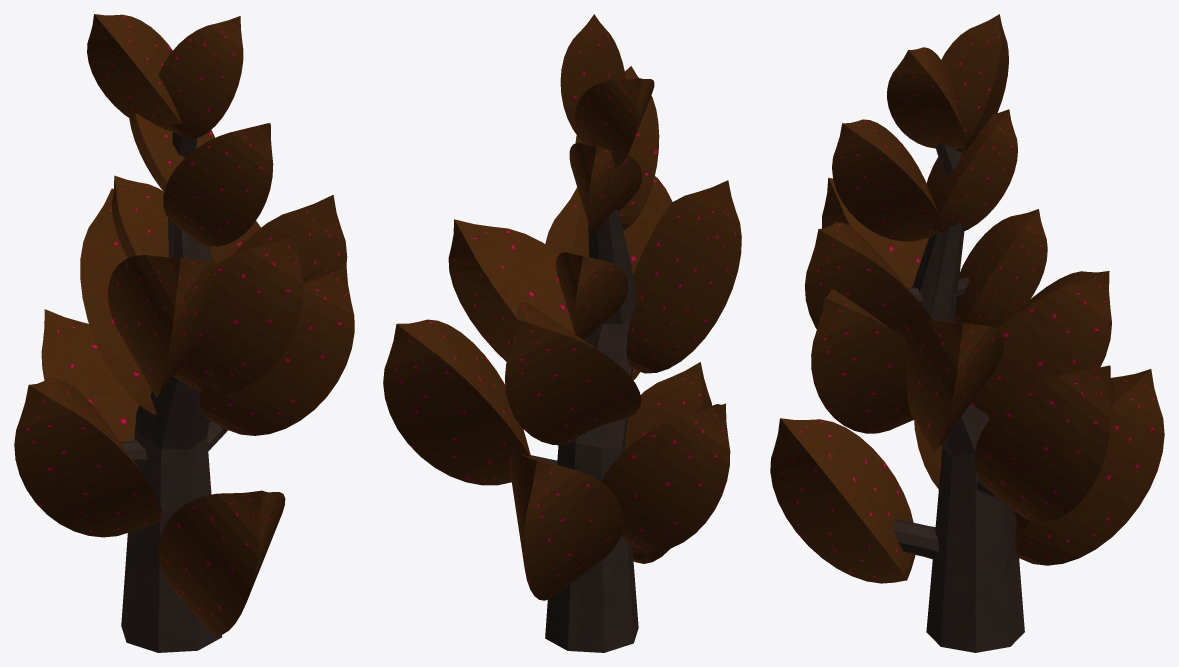
Rendered from tree-brown-red-flowers_5.fbx.
The picture shows the model from 3 angles, left to right: view 1: azimuth 30°, elevation 25°; view 2: azimuth 150°, elevation 25°; view 3: azimuth 270°, elevation 25°; orthographic projection. The views are drawn at different scales.
Parts seen in each view (by area): view 1: Icosphere.103; view 2: Icosphere.103; view 3: Icosphere.103.
Part boxes in pixels (bbox=[...]): Icosphere.103: bbox=[14, 14, 354, 652]; Icosphere.103: bbox=[383, 14, 741, 652]; Icosphere.103: bbox=[770, 14, 1164, 652].
Bounding box in the file's own units: 123 × 234 × 140.
